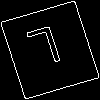L: (25, 25, 67, 78)
